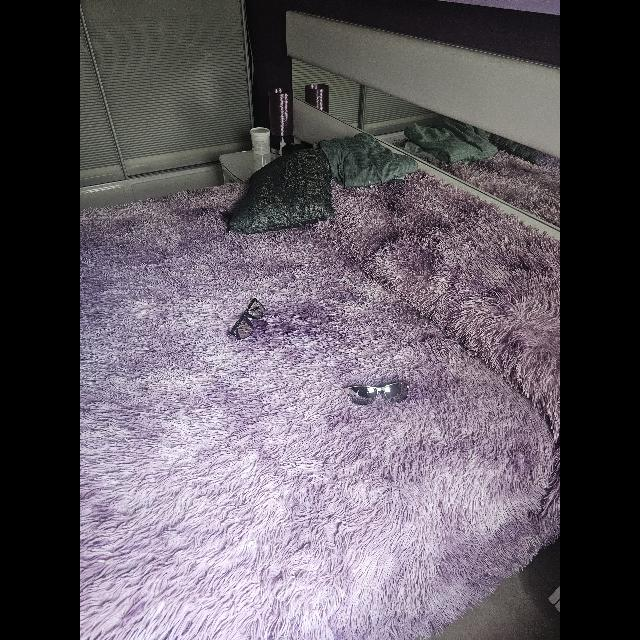Sunglasses: (344, 381, 410, 405)
glasses: (228, 298, 264, 339)
